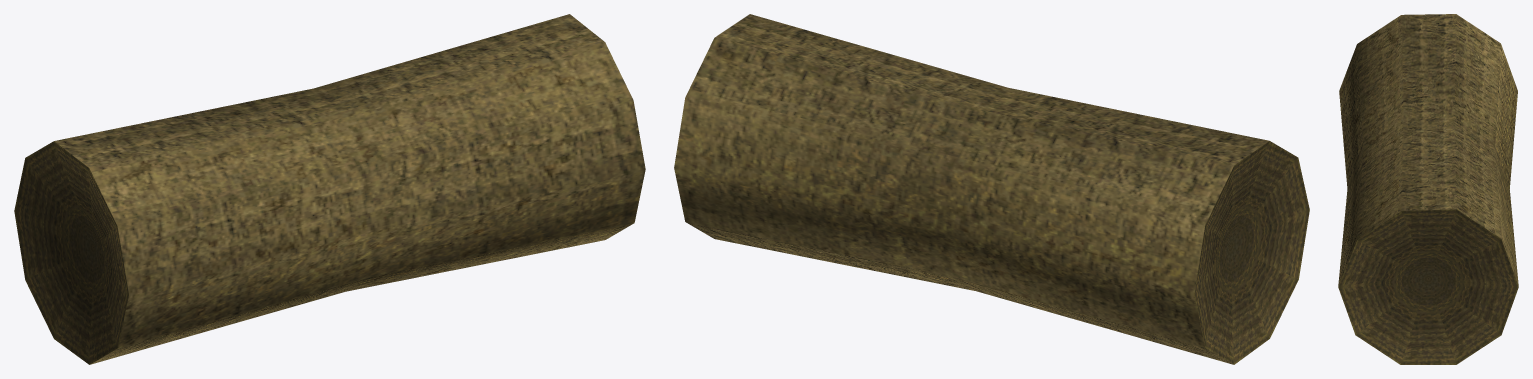
The model's file is thing_hake_roll01.glb.
3 views of the same model, side by side, from view 1: azimuth 30°, elevation 25°; view 2: azimuth 150°, elevation 25°; view 3: azimuth 270°, elevation 25° (orthographic). The views are drawn at different scales.
Parts seen in each view (by area): view 1: thing_hake_roll01; view 2: thing_hake_roll01; view 3: thing_hake_roll01.
Part boxes in pixels (<box>): thing_hake_roll01: <box>14,14,645,364</box>; thing_hake_roll01: <box>674,14,1309,364</box>; thing_hake_roll01: <box>1338,14,1518,364</box>.
Bounding box in the file's own units: 3.41 × 1.26 × 1.33.
Materials: 1 (1 with a texture image).
